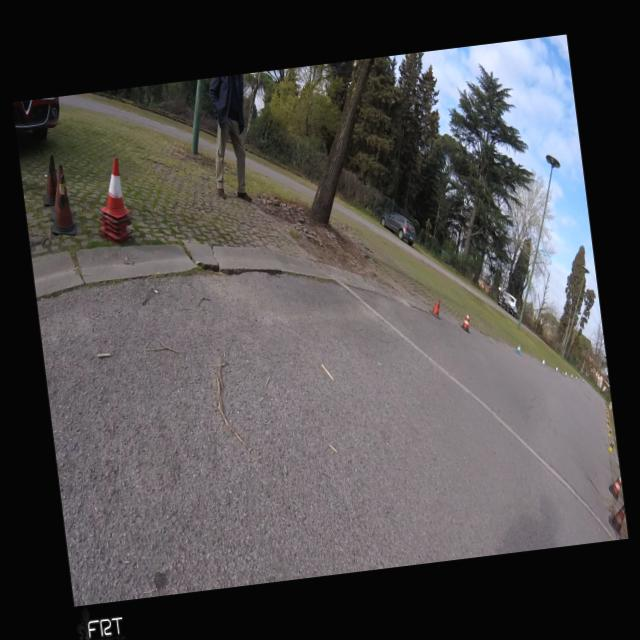blue_cone: (514, 342, 521, 356), (540, 358, 544, 366), (554, 366, 558, 372), (564, 371, 566, 376)
large_orange_cone: (606, 504, 628, 539), (607, 476, 623, 502), (458, 312, 472, 333)
orange_cone: (94, 156, 132, 220)
unknown_cone: (44, 172, 78, 236), (42, 164, 68, 220), (37, 154, 60, 206), (428, 296, 442, 320)
yellow_cone: (606, 441, 614, 454), (606, 428, 612, 438), (606, 420, 610, 427), (606, 415, 609, 420)
